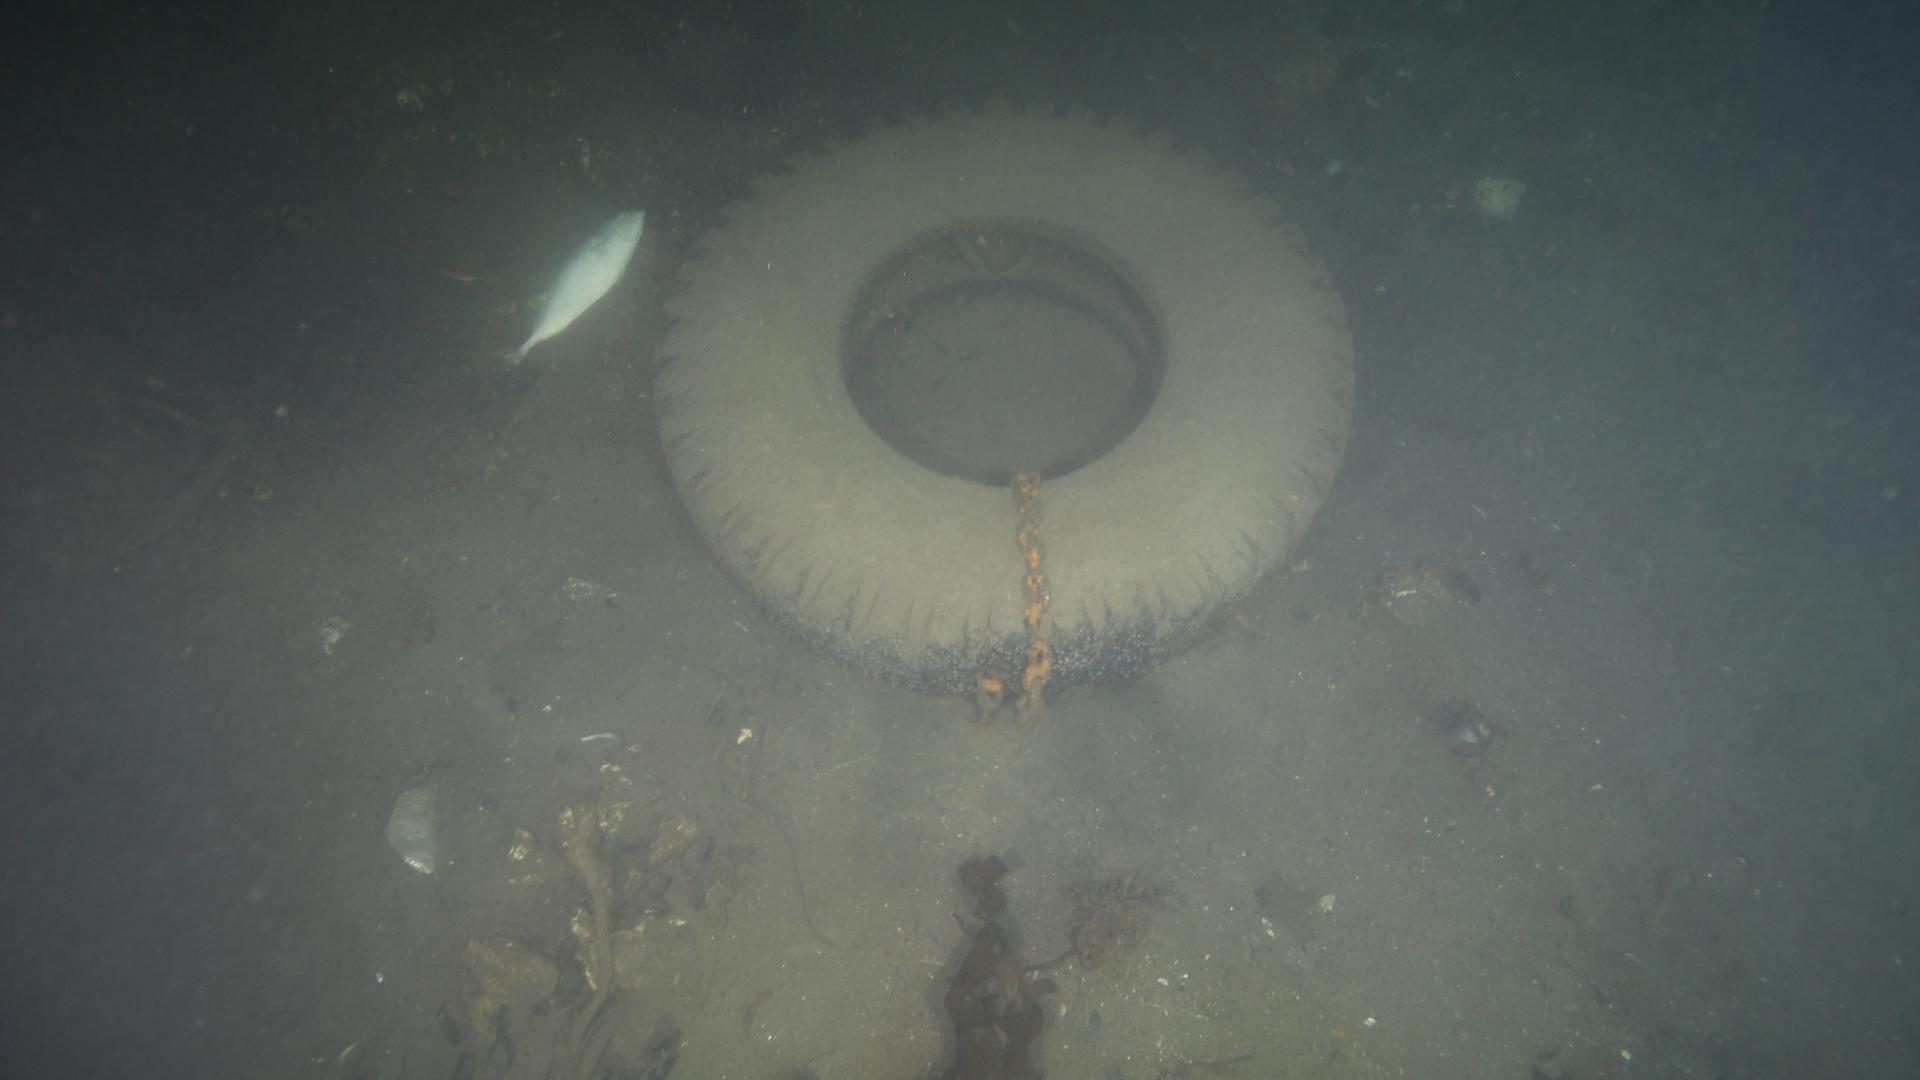tire: (651, 94, 1366, 705)
